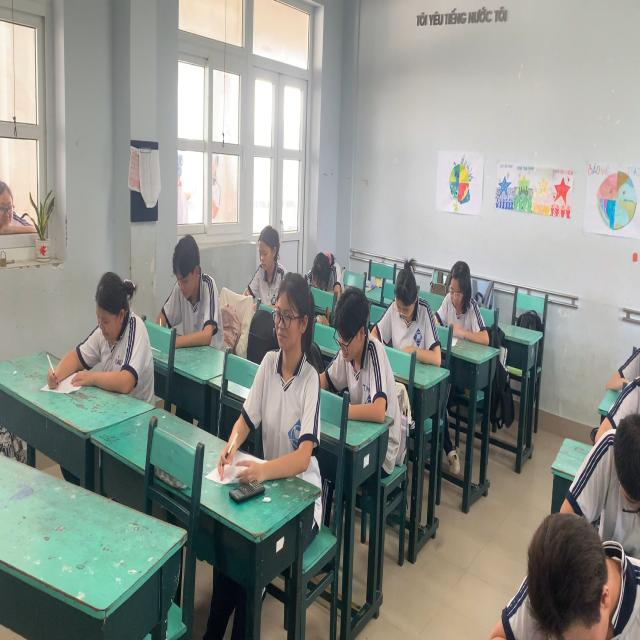not_cheating: (506, 490, 632, 634), (249, 267, 322, 461), (72, 244, 150, 405), (329, 263, 388, 417), (160, 229, 222, 351), (385, 241, 427, 360), (246, 216, 287, 309), (441, 252, 479, 348), (306, 236, 340, 300)
